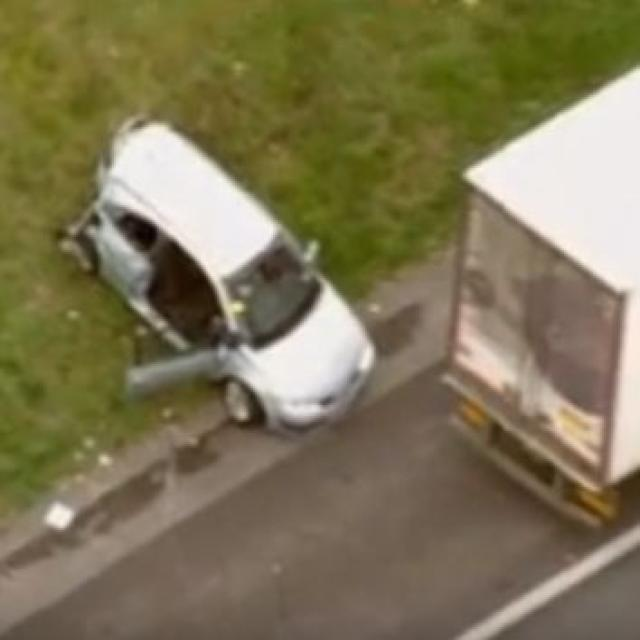traffic_incident: (72, 110, 390, 427)
